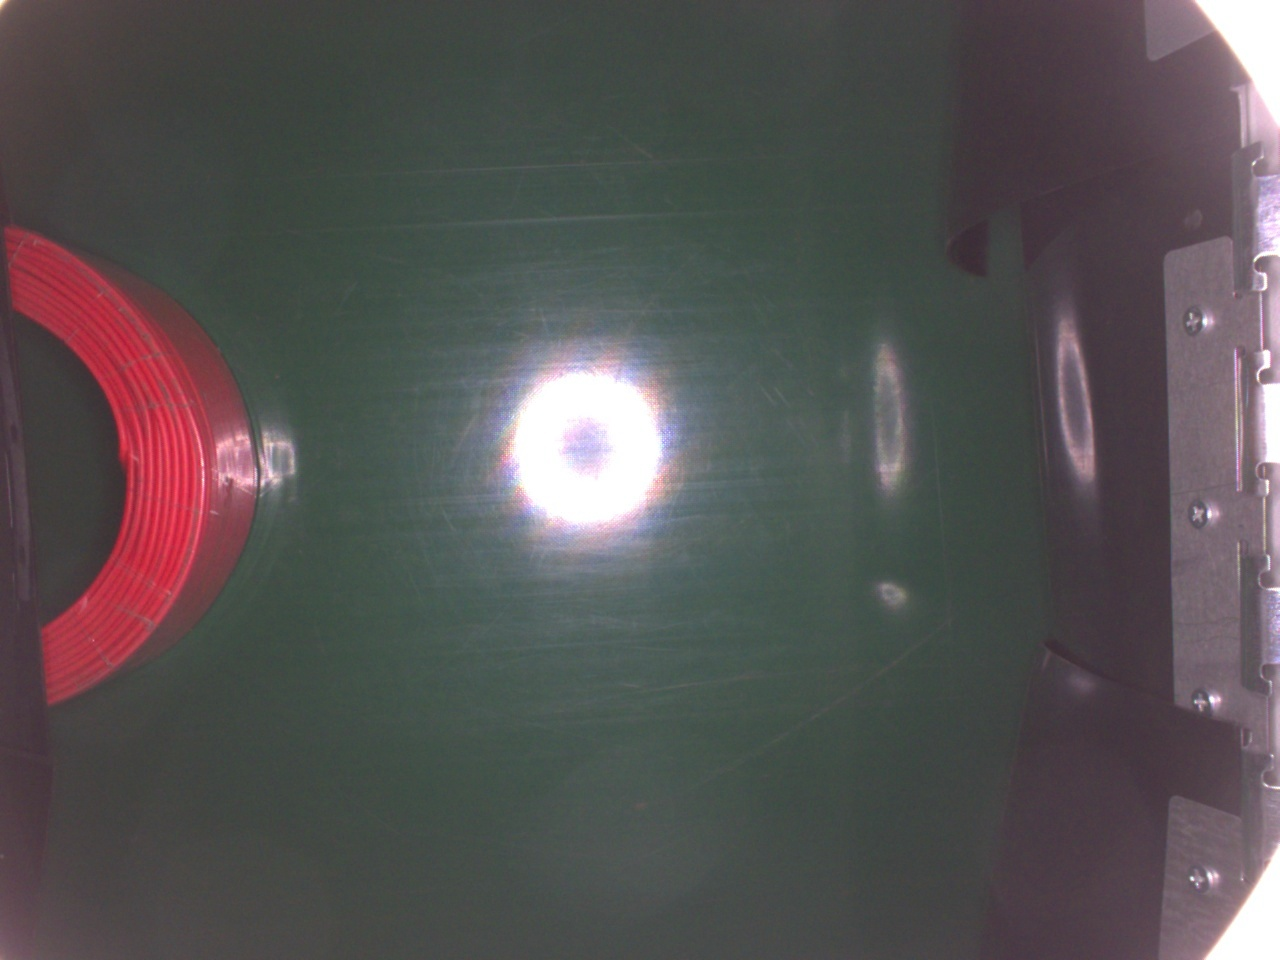red: (2, 222, 261, 709)
